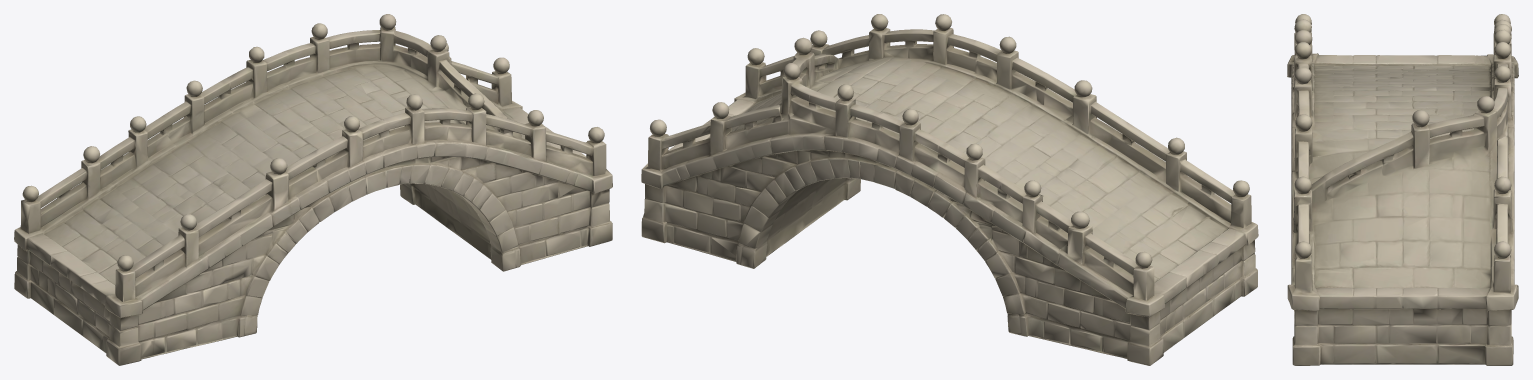
The model's file is duanqiao.glb.
The picture shows the model from 3 angles, left to right: view 1: azimuth 30°, elevation 25°; view 2: azimuth 150°, elevation 25°; view 3: azimuth 270°, elevation 25°; orthographic projection. The views are drawn at different scales.
Parts seen in each view (by area): view 1: tripo_node_8f344385-bfb3-4e6e-92cc-f8ae069b7451; view 2: tripo_node_8f344385-bfb3-4e6e-92cc-f8ae069b7451; view 3: tripo_node_8f344385-bfb3-4e6e-92cc-f8ae069b7451.
Part boxes in pixels (x1,y1,x2,y2): tripo_node_8f344385-bfb3-4e6e-92cc-f8ae069b7451: [14, 14, 612, 365]; tripo_node_8f344385-bfb3-4e6e-92cc-f8ae069b7451: [641, 14, 1258, 365]; tripo_node_8f344385-bfb3-4e6e-92cc-f8ae069b7451: [1287, 14, 1518, 365].
Bounding box in the file's own units: 0.9821 × 0.3736 × 0.3757.
Materials: 1 (1 with a texture image).
